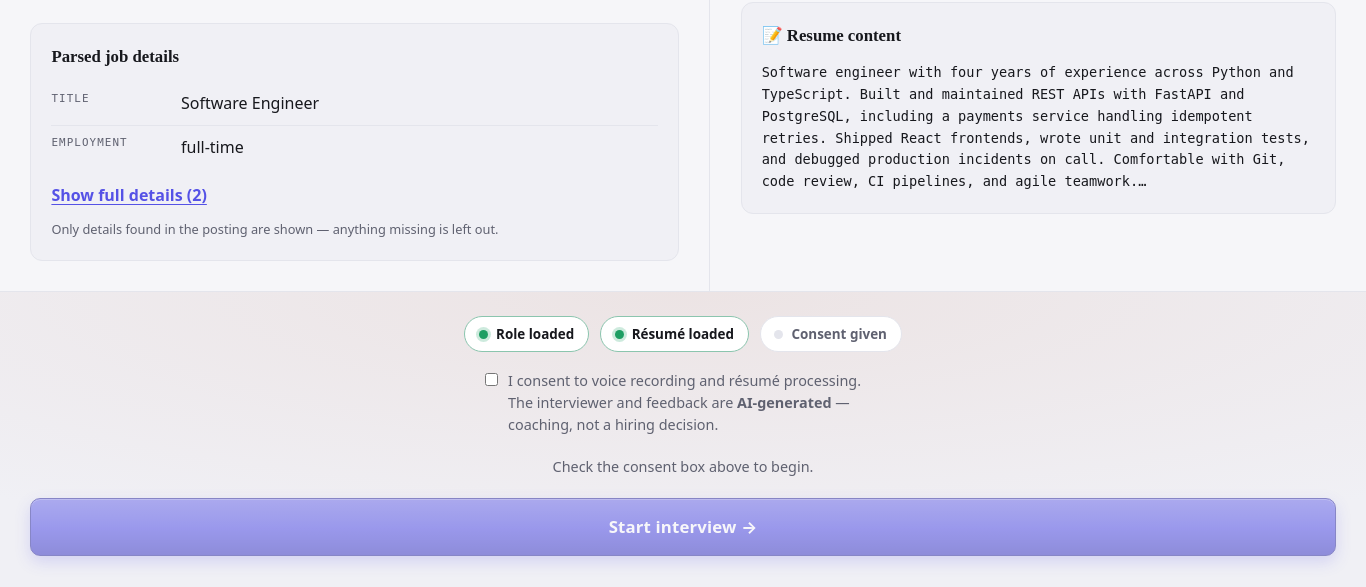
Test case: guest sees a sign-up modal when the free demo is used up
(page scrolled)
Click the checkbox: (492, 379) [485, 373, 498, 386]
(page scrolled)
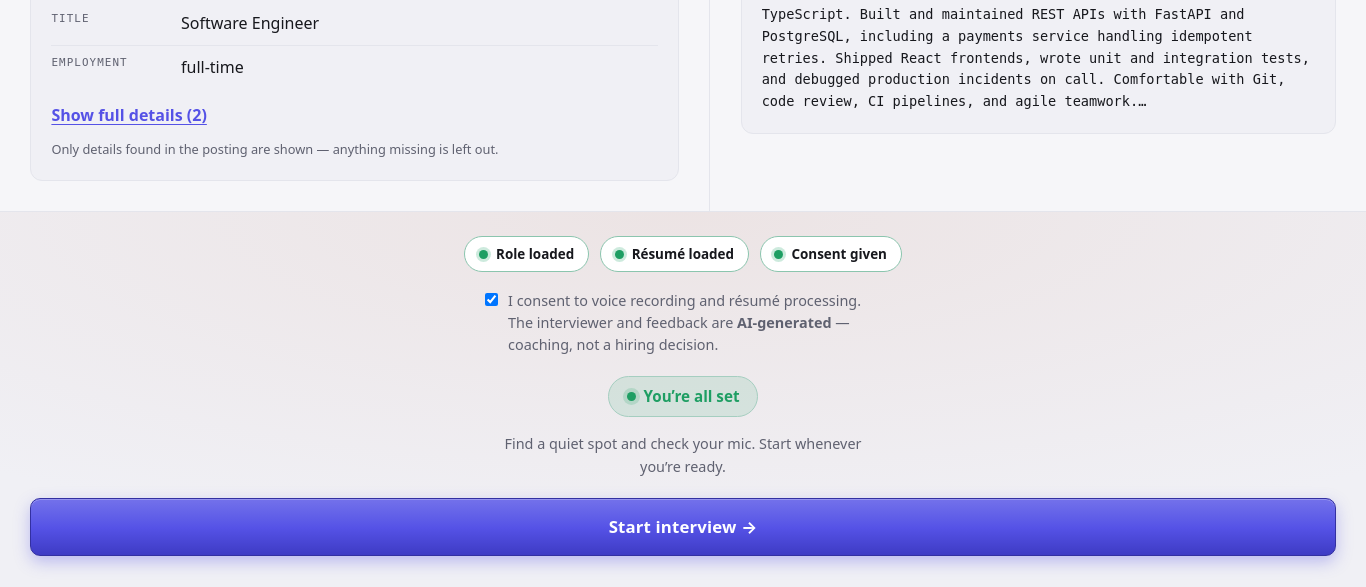
Click the button "Start interview →": (683, 527) [30, 498, 1336, 556]
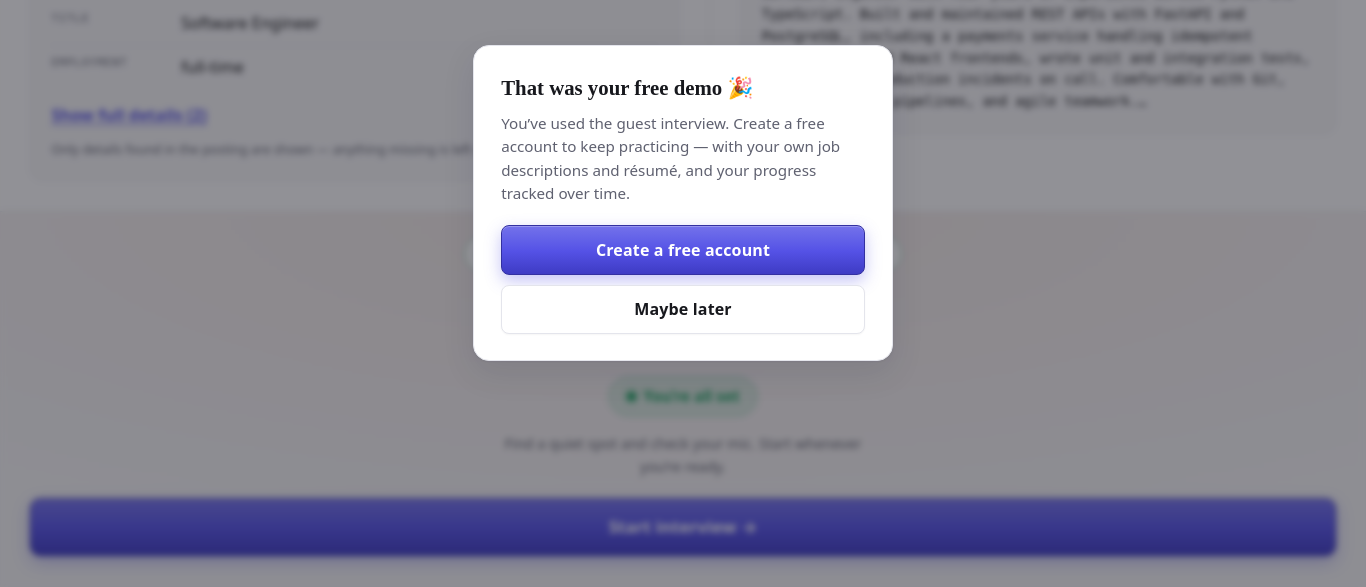
Expected: the heading "That was your free demo 🎉" is shown, [501, 76, 753, 98]
Expected: the button "Create a free account" is shown, [501, 225, 865, 275]
